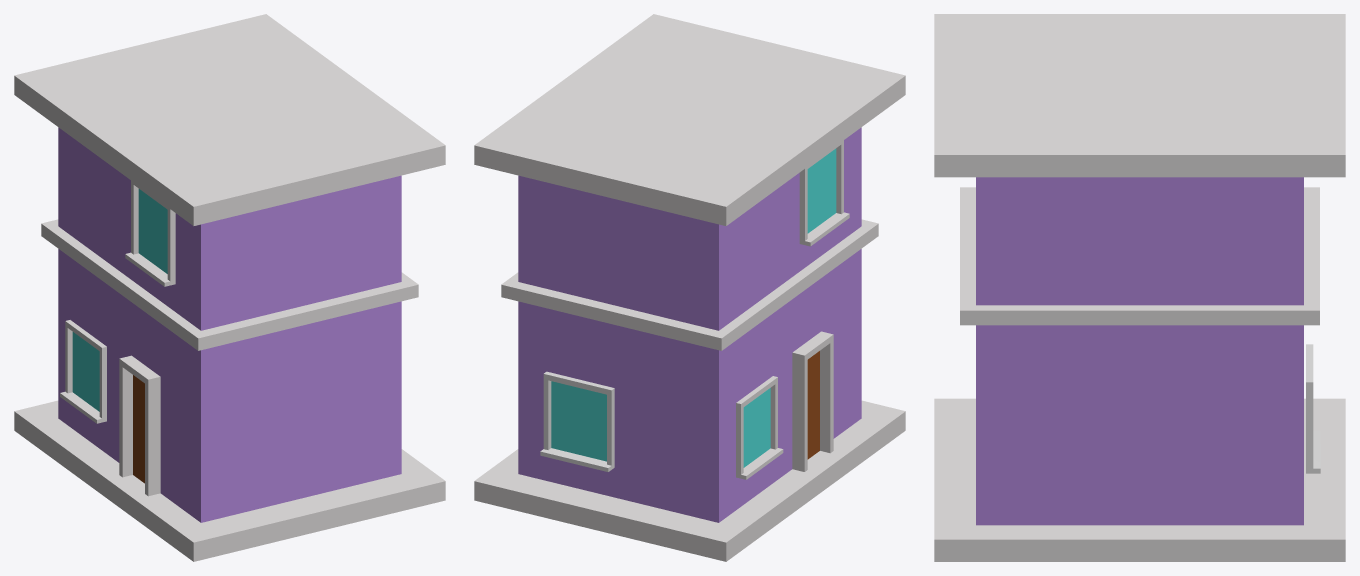
File: House2.fbx
The picture shows the model from 3 angles, left to right: view 1: azimuth 30°, elevation 25°; view 2: azimuth 150°, elevation 25°; view 3: azimuth 270°, elevation 25°; orthographic projection. The views are drawn at different scales.
Parts seen in each view (by area): view 1: House2; view 2: House2; view 3: House2.
Boxes of the visible parts, x1,y1,x2,y2 form: House2: (14, 14, 445, 561); House2: (474, 14, 905, 561); House2: (934, 14, 1345, 561).
Size of the model in its own units: 409 by 551 by 505.
